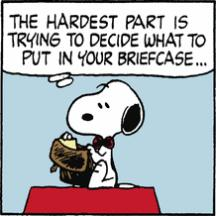snoopy: (50, 80, 146, 190)
